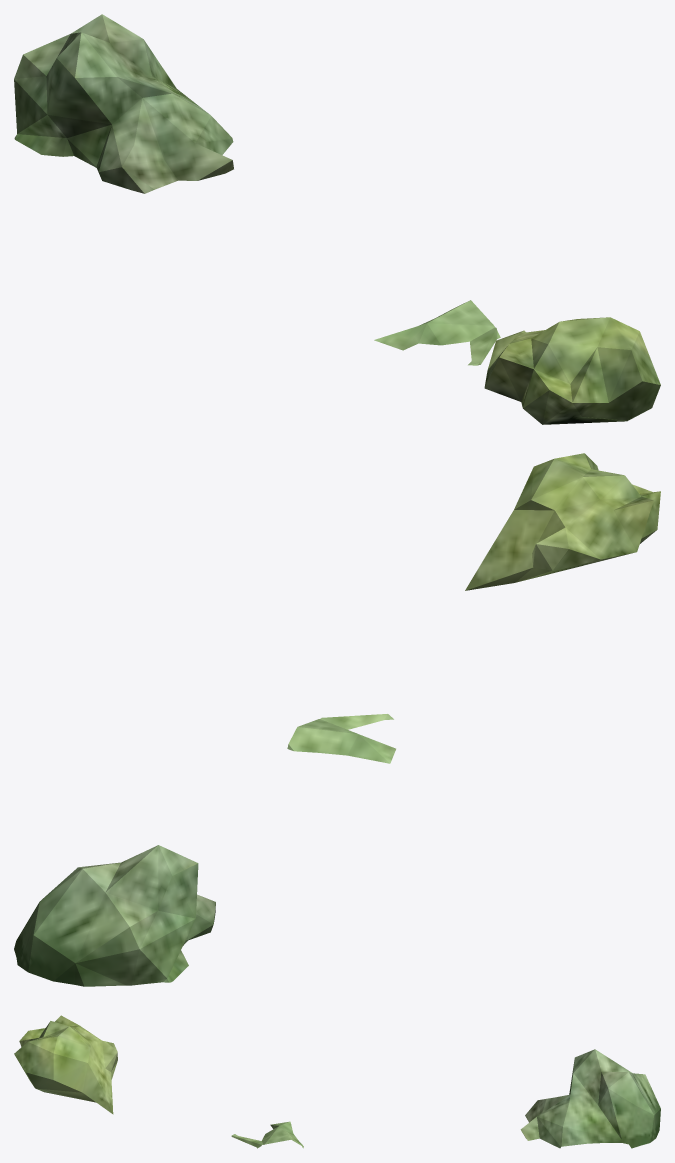
3 views of the same model, one above another, from view 1: azimuth 30°, elevation 25°; view 2: azimuth 150°, elevation 25°; view 3: azimuth 270°, elevation 25° (orthographic). The views are drawn at different scales.
Bounding box in the file's own units: 7.98 × 7.22 × 45.12.
1 material, 1 textured.
